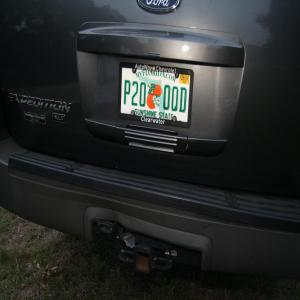Vehicle-registration-plate: (119, 61, 195, 130)
